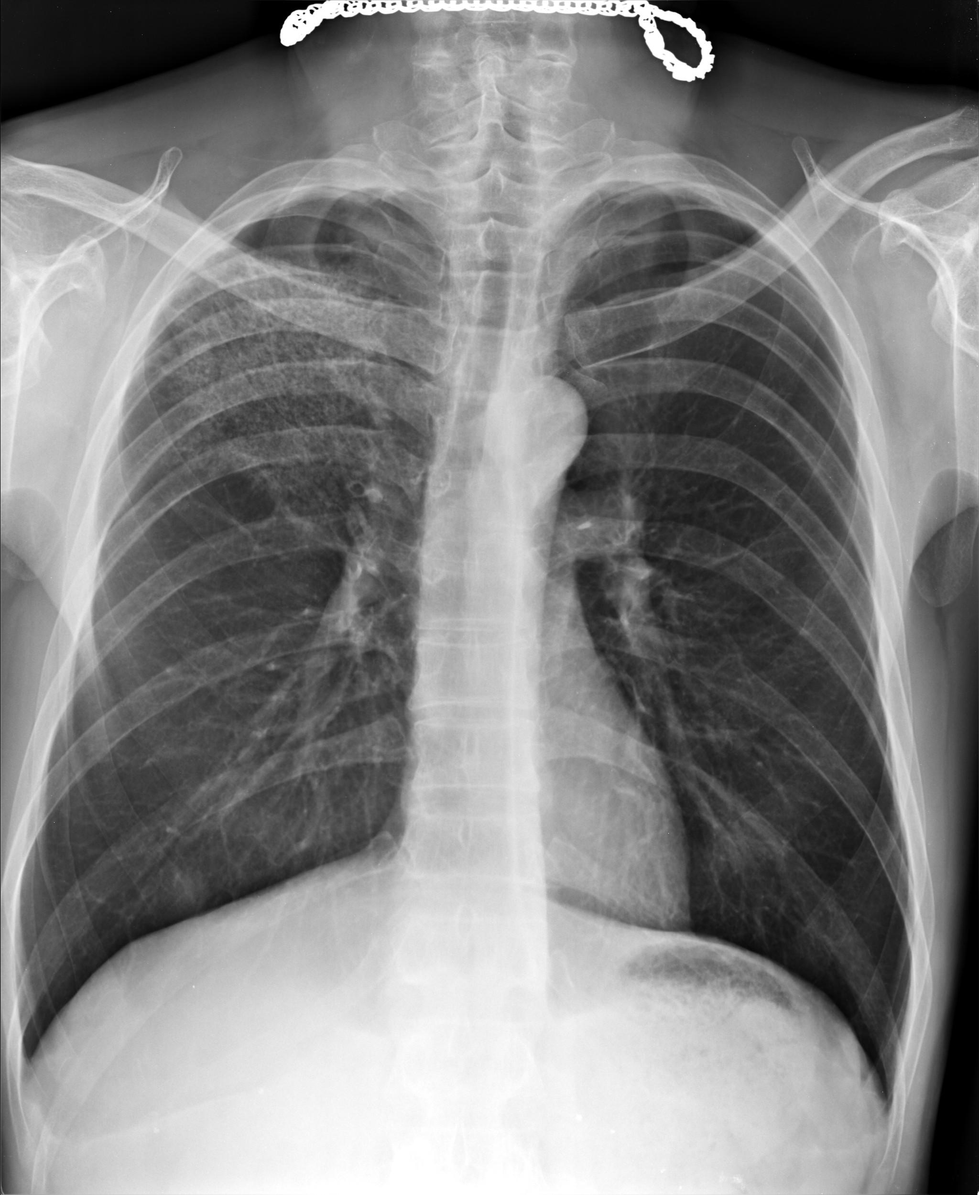Pleural thickening: (193, 175, 397, 248)
Pulmonary fibrosis: (152, 245, 384, 540)
